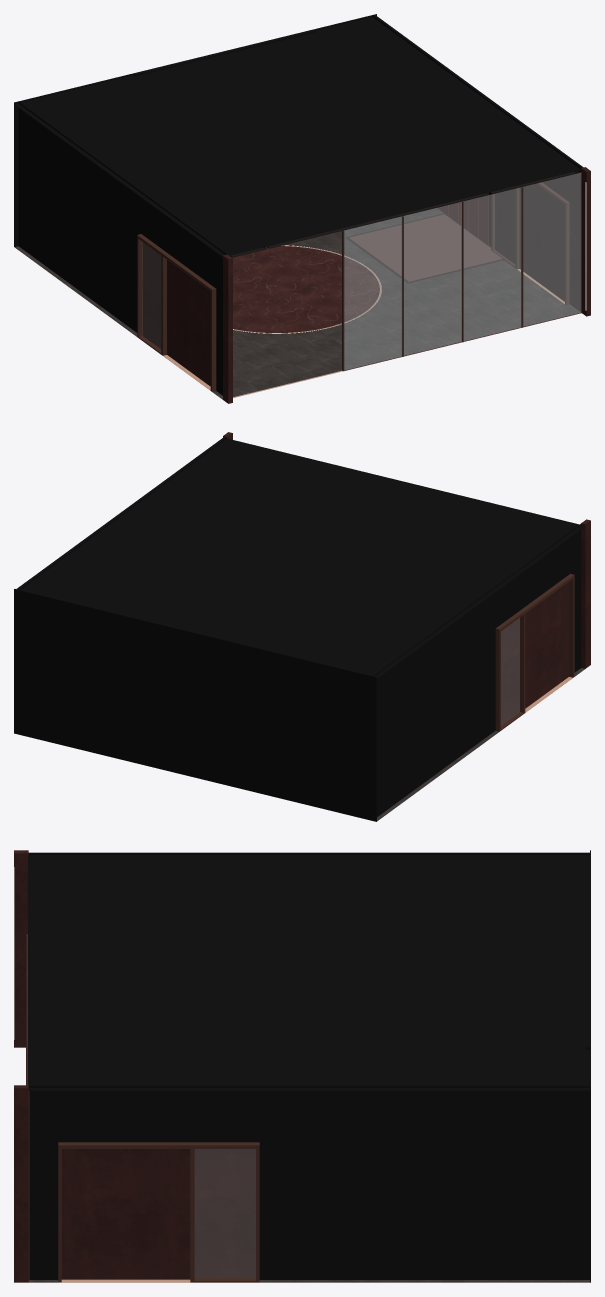
Rendered from room_compact.glb.
The picture shows the model from 3 angles, top to bottom: view 1: azimuth 30°, elevation 25°; view 2: azimuth 150°, elevation 25°; view 3: azimuth 270°, elevation 25°; orthographic projection. The views are drawn at different scales.
Visible parts, largest first — view 1: MTG_Reveals, MTG_Glass_Vitrine, MTG_Floor, MTG_Stage, MTG_PortalFill_L, MTG_PortalFill_R, MTG_Rug, MTG_Walls, MTG_Glass_PortalL, MTG_Pier_-1, MTG_Pier_1, MTG_Ceiling (+5 smaller); view 2: MTG_Reveals, MTG_PortalFill_L, MTG_Glass_PortalL, MTG_Pier_-1, MTG_PortalL_Mull, MTG_Floor, MTG_PortalL_JambA, MTG_PortalL_Head, MTG_PortalL_JambB; view 3: MTG_Reveals, MTG_PortalFill_R, MTG_Glass_PortalR, MTG_Pier_1, MTG_Pier_-1, MTG_PortalR_Head, MTG_Floor, MTG_PortalR_Mull.
Boxes of the visible parts, x1,y1,x2,y2 form: MTG_Reveals: [14, 14, 583, 395]; MTG_Glass_Vitrine: [344, 173, 580, 369]; MTG_Floor: [14, 208, 579, 399]; MTG_Stage: [232, 246, 379, 332]; MTG_PortalFill_L: [142, 242, 210, 386]; MTG_PortalFill_R: [495, 184, 564, 301]; MTG_Rug: [349, 214, 502, 281]; MTG_Walls: [437, 171, 580, 310]; MTG_Glass_PortalL: [142, 242, 160, 348]; MTG_Pier_-1: [223, 254, 232, 403]; MTG_Pier_1: [581, 167, 590, 316]; MTG_Ceiling: [230, 171, 576, 257]; MTG_Reveals: [14, 437, 584, 821]; MTG_PortalFill_L: [501, 582, 568, 725]; MTG_Glass_PortalL: [501, 618, 519, 724]; MTG_Pier_-1: [581, 519, 590, 668]; MTG_PortalL_Mull: [519, 614, 525, 713]; MTG_Floor: [377, 668, 584, 821]; MTG_PortalL_JambA: [495, 631, 500, 731]; MTG_PortalL_Head: [495, 574, 574, 632]; MTG_PortalL_JambB: [569, 578, 574, 677]; MTG_Reveals: [28, 850, 590, 1282]; MTG_PortalFill_R: [61, 1149, 255, 1279]; MTG_Glass_PortalR: [195, 1149, 255, 1277]; MTG_Pier_1: [14, 1085, 28, 1282]; MTG_Pier_-1: [14, 850, 28, 1047]; MTG_PortalR_Head: [58, 1142, 259, 1148]; MTG_Floor: [28, 1280, 589, 1282]; MTG_PortalR_Mull: [190, 1149, 194, 1282].
Bounding box in the file's own units: 13 × 4.95 × 13.32.
19 materials, 6 textured.
